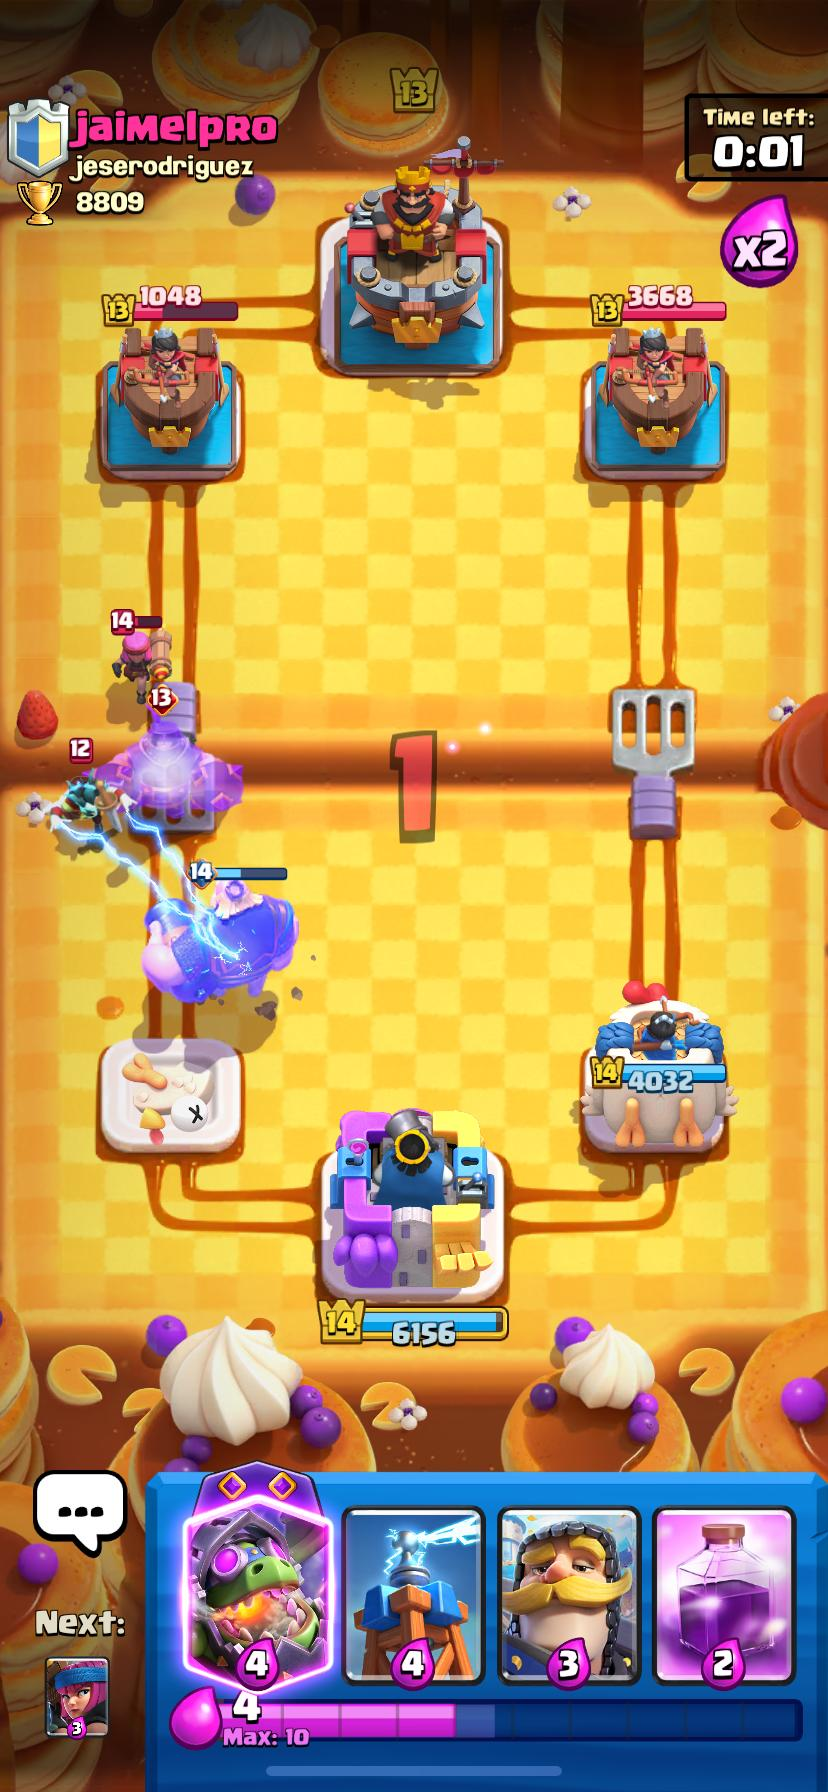EEVMegaKnight: (97, 721, 242, 831)
EEletrcoWizard: (50, 771, 121, 837)
EFirecrack: (112, 625, 170, 703)
EKingTower: (319, 139, 502, 378)
EnemyPrincessTower: (584, 327, 725, 480), (101, 326, 240, 480)
OEVRoyalG: (142, 880, 298, 1003)
OwnKingTower: (321, 1109, 503, 1306)
OwnPrincessTower: (580, 982, 737, 1154)
TowerDown: (101, 1038, 240, 1154)
